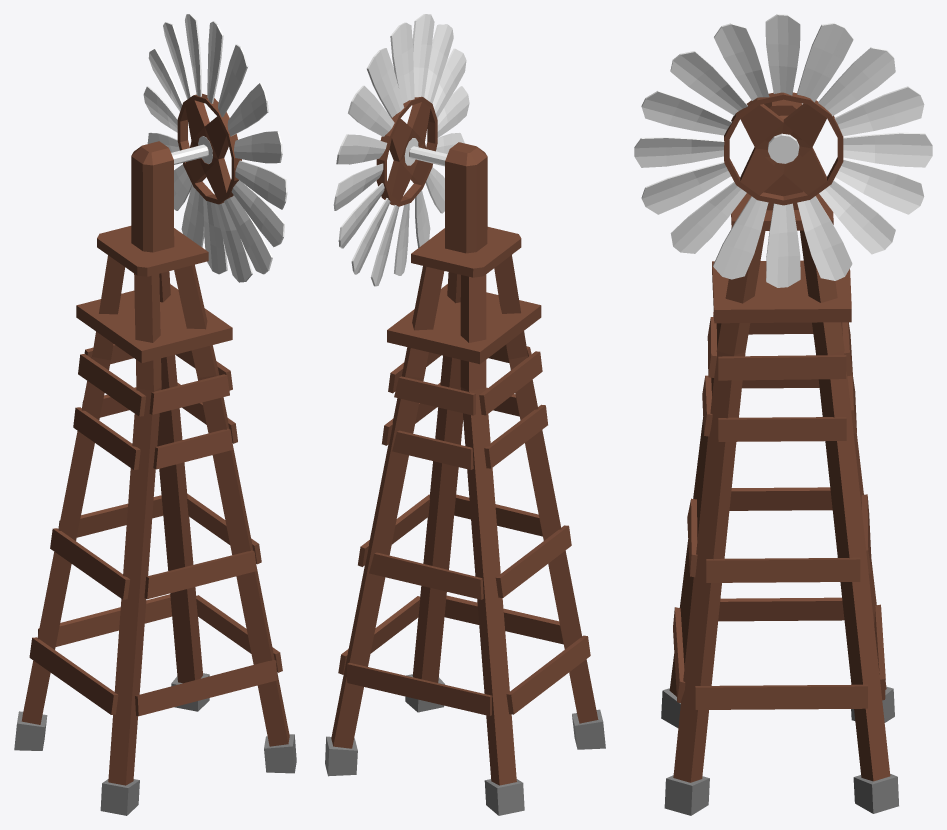
File: donen_sey.fbx
3 renders of one model, left to right at view 1: azimuth 30°, elevation 25°; view 2: azimuth 150°, elevation 25°; view 3: azimuth 270°, elevation 25°, orthographic. The views are drawn at different scales.
Visible parts, largest first — view 1: Plane.000; view 2: Plane.000; view 3: Plane.000.
Part boxes in pixels (bbox=[...]): Plane.000: bbox=[14, 14, 296, 815]; Plane.000: bbox=[325, 14, 605, 815]; Plane.000: bbox=[634, 14, 932, 815].
Bounding box in the file's own units: 427 × 1455 × 504.
